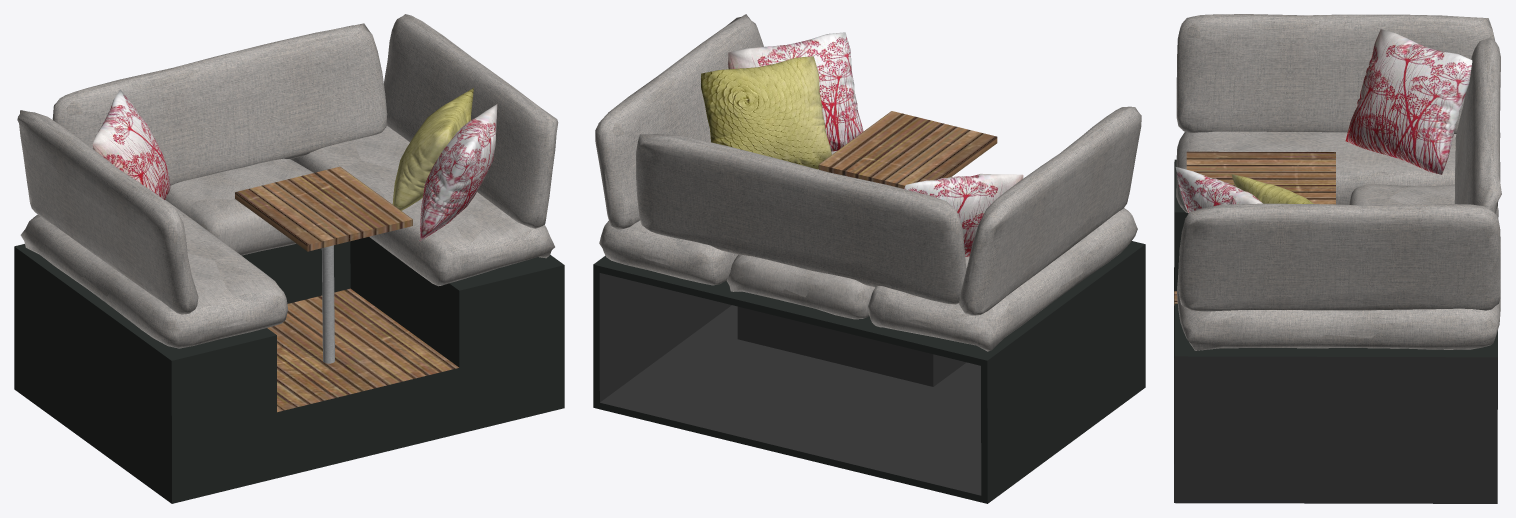
File: platform_bed.glb
3 renders of one model, left to right at view 1: azimuth 30°, elevation 25°; view 2: azimuth 150°, elevation 25°; view 3: azimuth 270°, elevation 25°, orthographic. The views are drawn at different scales.
Parts seen in each view (by area): view 1: Material2.001, Material2.100, Material2.102, Material2.168, Material2.103, Material2.003, Material2.169, Material2.105, Material2.006, Material2.170, Material2.104, Material2.171 (+1 smaller); view 2: Material2.002, Material2.001, Material2.100, Material2.102, Material2.168, Material2.171, Material2.103, Material2.105, Material2.170, Material2.006, Material2.169, Material2.104; view 3: Material2, Material2.168, Material2.102, Material2.169, Material2.104, Material2.103, Material2.100, Material2.105, Material2.001, Material2.170, Material2.006, Material2.171.
Boxes of the visible parts, left/top/right/bottom form: Material2.001: left=14, top=237, right=564, bottom=503; Material2.100: left=52, top=23, right=387, bottom=185; Material2.102: left=17, top=110, right=198, bottom=314; Material2.168: left=384, top=14, right=558, bottom=228; Material2.103: left=20, top=200, right=287, bottom=348; Material2.003: left=267, top=288, right=458, bottom=412; Material2.169: left=291, top=126, right=554, bottom=286; Material2.105: left=235, top=166, right=412, bottom=251; Material2.006: left=165, top=158, right=313, bottom=255; Material2.170: left=419, top=104, right=497, bottom=240; Material2.104: left=92, top=89, right=170, bottom=199; Material2.171: left=392, top=88, right=473, bottom=210; Material2.002: left=599, top=273, right=981, bottom=495; Material2.001: left=593, top=241, right=1145, bottom=503; Material2.100: left=636, top=134, right=966, bottom=304; Material2.102: left=959, top=106, right=1141, bottom=315; Material2.168: left=595, top=14, right=763, bottom=229; Material2.171: left=701, top=56, right=831, bottom=169; Material2.103: left=868, top=208, right=1137, bottom=351; Material2.105: left=818, top=111, right=997, bottom=188; Material2.170: left=728, top=32, right=863, bottom=151; Material2.006: left=726, top=254, right=874, bottom=319; Material2.169: left=599, top=151, right=836, bottom=285; Material2.104: left=904, top=174, right=1023, bottom=256; Material2: left=1174, top=356, right=1497, bottom=503; Material2.168: left=1178, top=203, right=1500, bottom=311; Material2.102: left=1176, top=14, right=1495, bottom=133; Material2.169: left=1177, top=280, right=1500, bottom=350; Material2.104: left=1345, top=29, right=1472, bottom=174; Material2.103: left=1176, top=131, right=1498, bottom=212; Material2.100: left=1454, top=37, right=1501, bottom=213; Material2.105: left=1186, top=151, right=1335, bottom=210; Material2.001: left=1174, top=159, right=1497, bottom=463; Material2.170: left=1175, top=167, right=1262, bottom=212; Material2.006: left=1349, top=184, right=1498, bottom=217; Material2.171: left=1231, top=174, right=1313, bottom=203.
Bounding box in the file's own units: 75.37 × 51.58 × 51.84.
10 materials, 7 textured.
